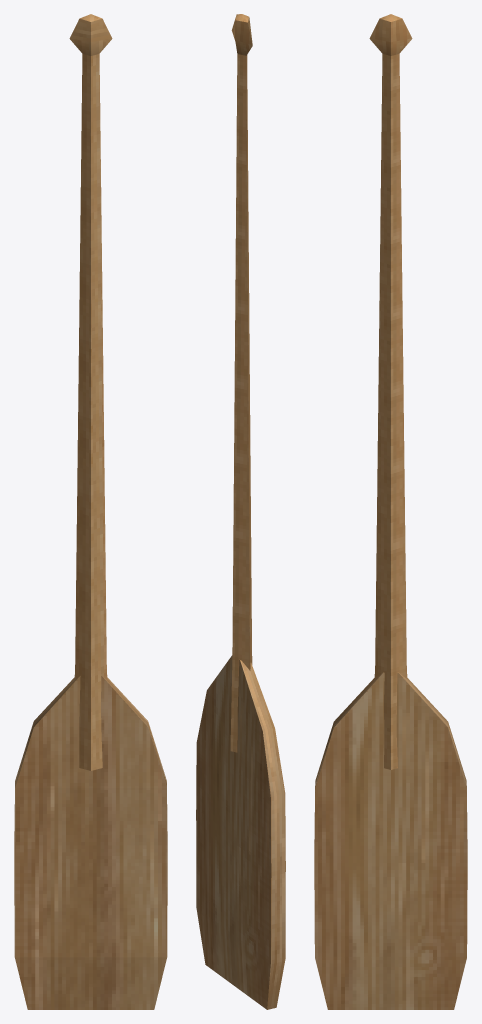
Rendered from Paddle.fbx.
3 renders of one model, left to right at view 1: azimuth 90°, elevation 25°; view 2: azimuth 210°, elevation 25°; view 3: azimuth 270°, elevation 25°, orthographic. The views are drawn at different scales.
Parts seen in each view (by area): view 1: CanoePaddle; view 2: CanoePaddle; view 3: CanoePaddle.
Part boxes in pixels (x1,y1,x2,y2): CanoePaddle: (14,14,167,1009); CanoePaddle: (196,14,285,1009); CanoePaddle: (314,14,467,1009).
Bounding box in the file's own units: 9.68 × 382 × 53.47.
Materials: 1 (1 with a texture image).
